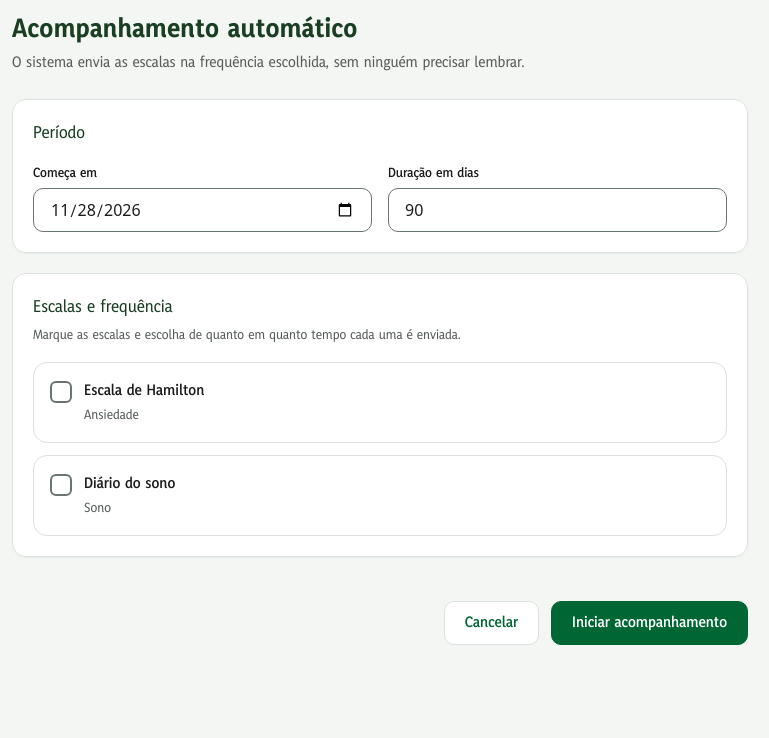
AcompanhamentoProtocolo › a recusa do envio leva a tela ate o aviso de cima
Click the text "Escala de Hamilton" at (144, 391), box [84,379,204,403]
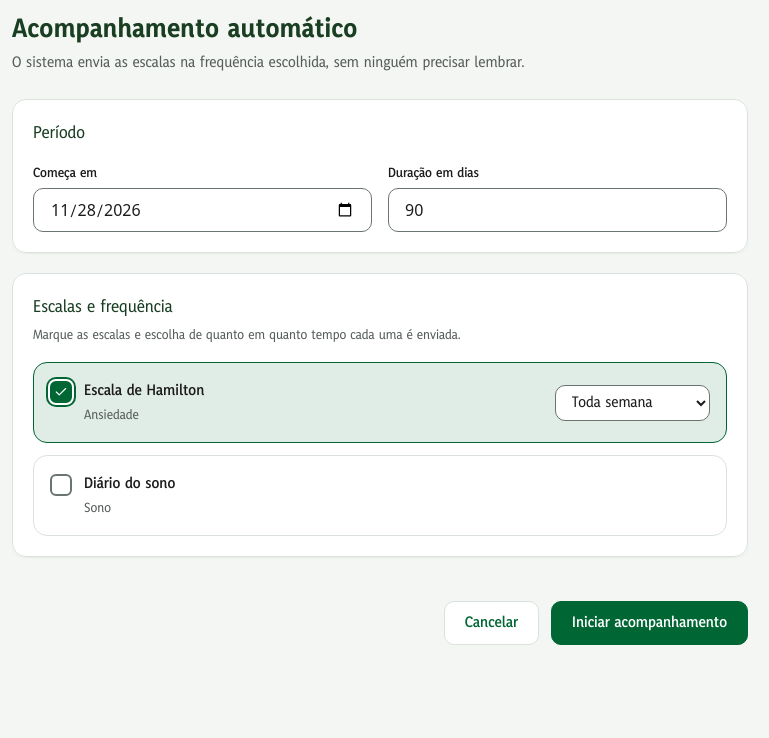
Click the button "Iniciar acompanhamento" at (650, 623), box [551,601,748,645]
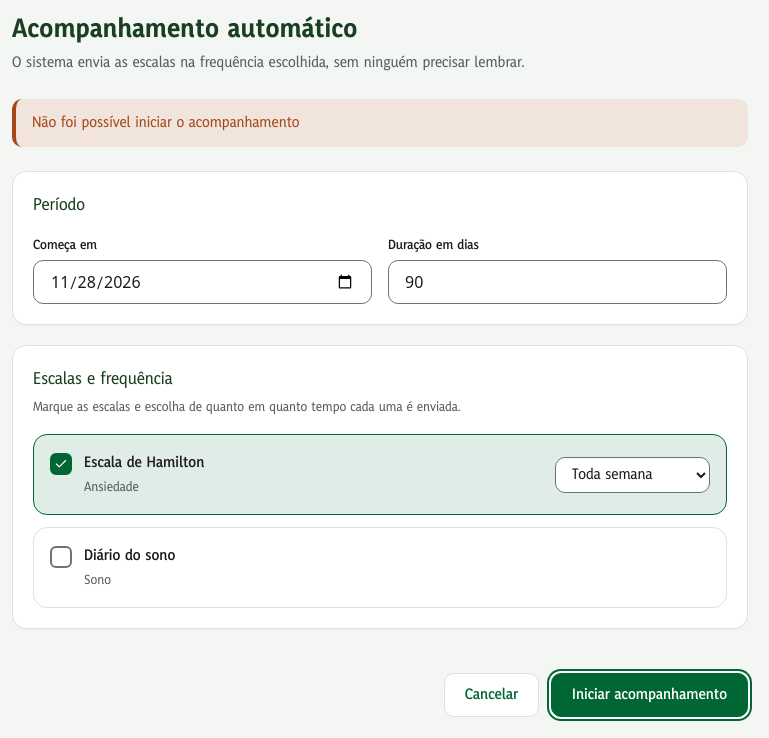
Now the message reads "Não foi possível iniciar o acompanhamento", box [32,112,300,133]
